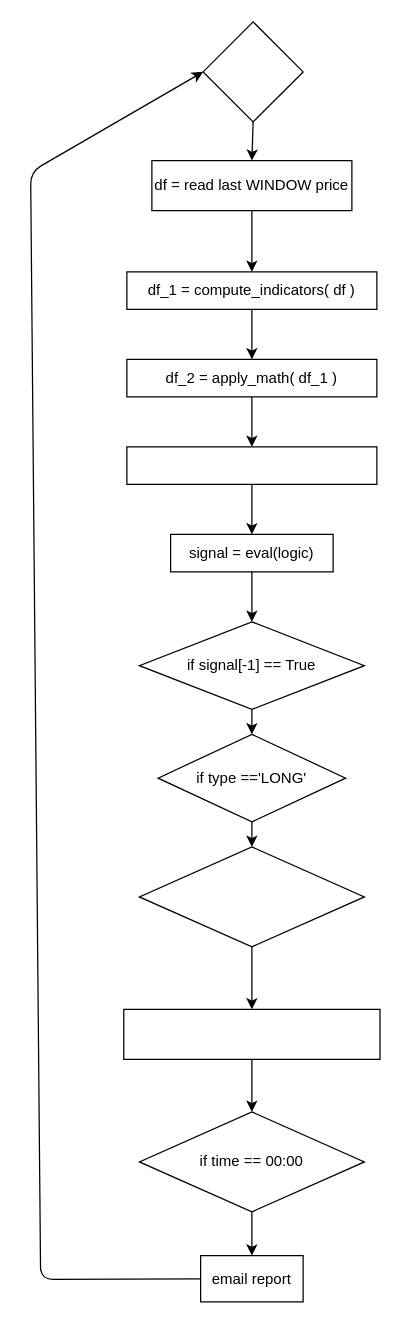
The diagram is 403 pixels wide and 1324 high, and some of its shapes have lost their labels. The shapes that lost their labels are listed below. From the top down, each one's centre as x and y in pixels, then its label:
At [252,71]: "while true".
At [251,465]: "df_3 = apply_normalization( df_2 )".
At [251,896]: "if open_positions == 0".
At [251,1033]: "open_position( trade_parameters )".
